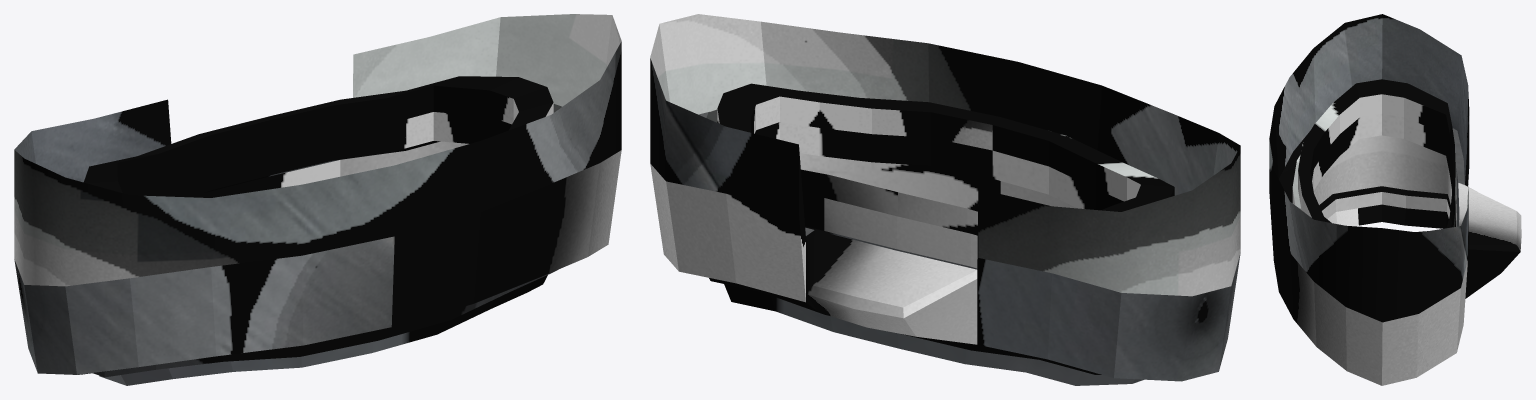
Rendered from kxn_Lamp.fbx.
The picture shows the model from 3 angles, left to right: view 1: azimuth 30°, elevation 25°; view 2: azimuth 150°, elevation 25°; view 3: azimuth 270°, elevation 25°; orthographic projection. The views are drawn at different scales.
Visible parts, largest first — view 1: Lamp; view 2: Lamp; view 3: Lamp.
Boxes of the visible parts, x1=… form: Lamp: x1=14, y1=14, x2=621, y2=385; Lamp: x1=650, y1=14, x2=1240, y2=385; Lamp: x1=1269, y1=14, x2=1521, y2=385.
Size of the model in its own units: 5.1 by 1.95 by 2.54.
